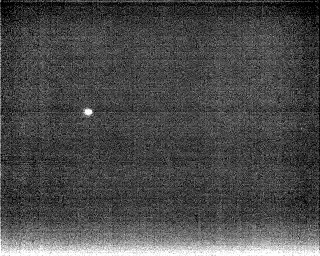AIRPLANE: (82, 106, 95, 117)
